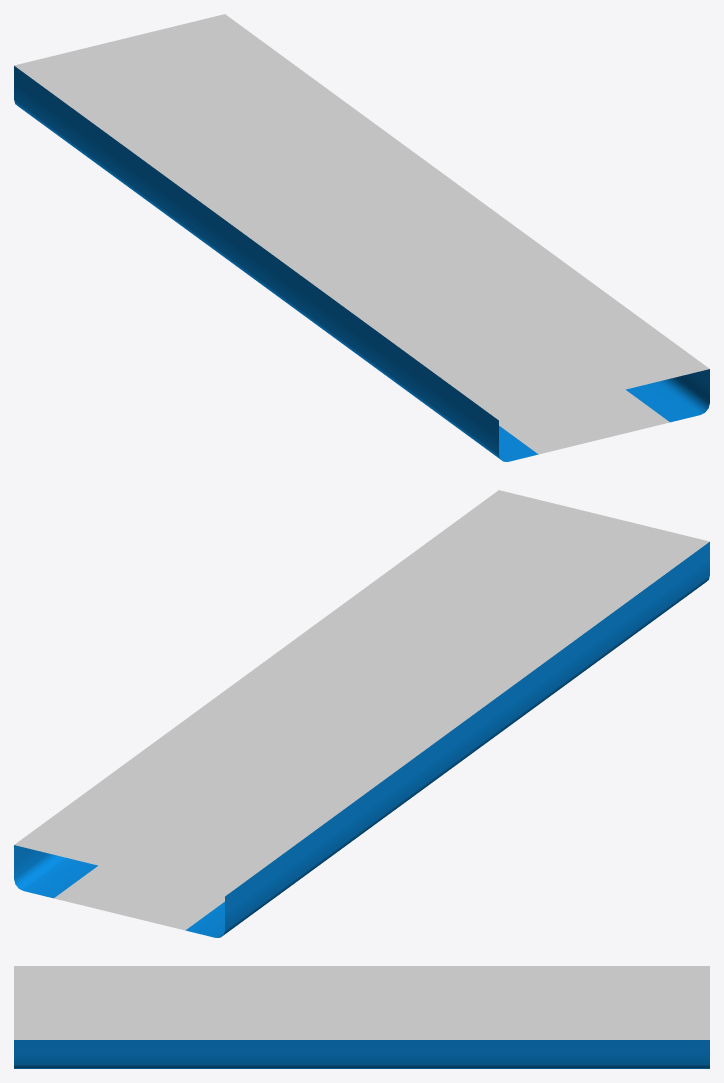
The model's file is Corridor_part_lighttube.fbx.
3 views of the same model, one above another, from view 1: azimuth 30°, elevation 25°; view 2: azimuth 150°, elevation 25°; view 3: azimuth 270°, elevation 25° (orthographic). The views are drawn at different scales.
Parts seen in each view (by area): view 1: Corridor_part_lighttube; view 2: Corridor_part_lighttube; view 3: Corridor_part_lighttube.
Part boxes in pixels (x1=…): Corridor_part_lighttube: x1=14, y1=14, x2=709, y2=461; Corridor_part_lighttube: x1=14, y1=490, x2=709, y2=937; Corridor_part_lighttube: x1=14, y1=966, x2=709, y2=1068.
Size of the model in its own units: 101 by 19.9 by 400.
